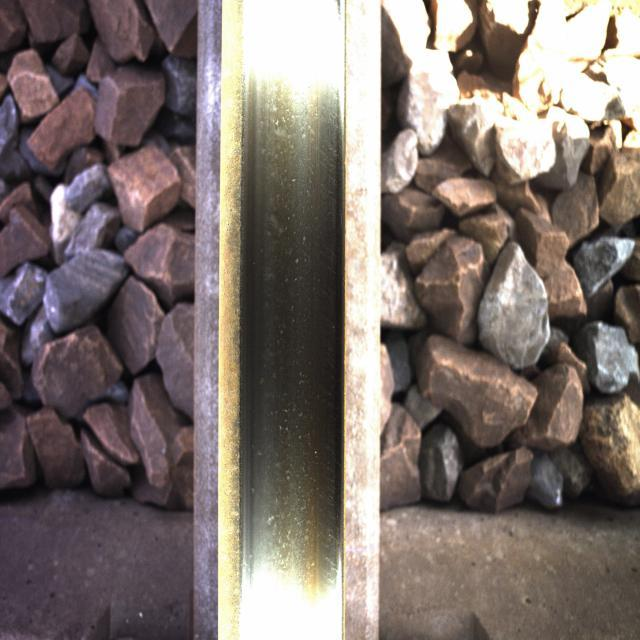normal: (251, 61, 340, 589)
